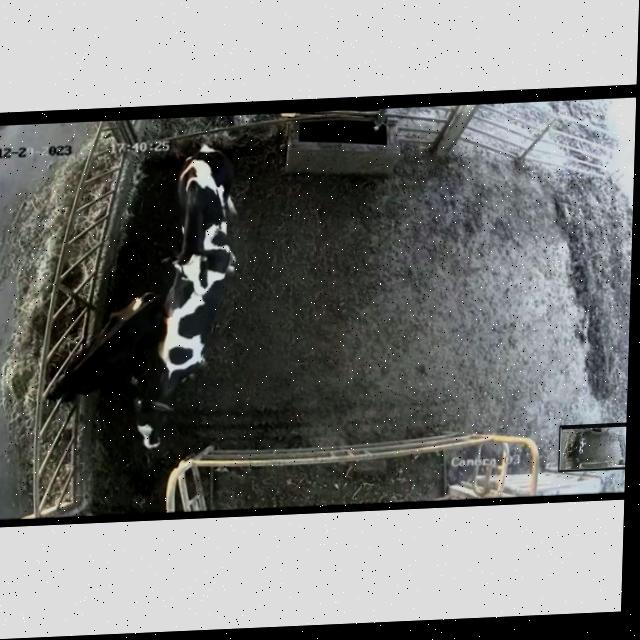propping: (169, 241, 228, 307)
